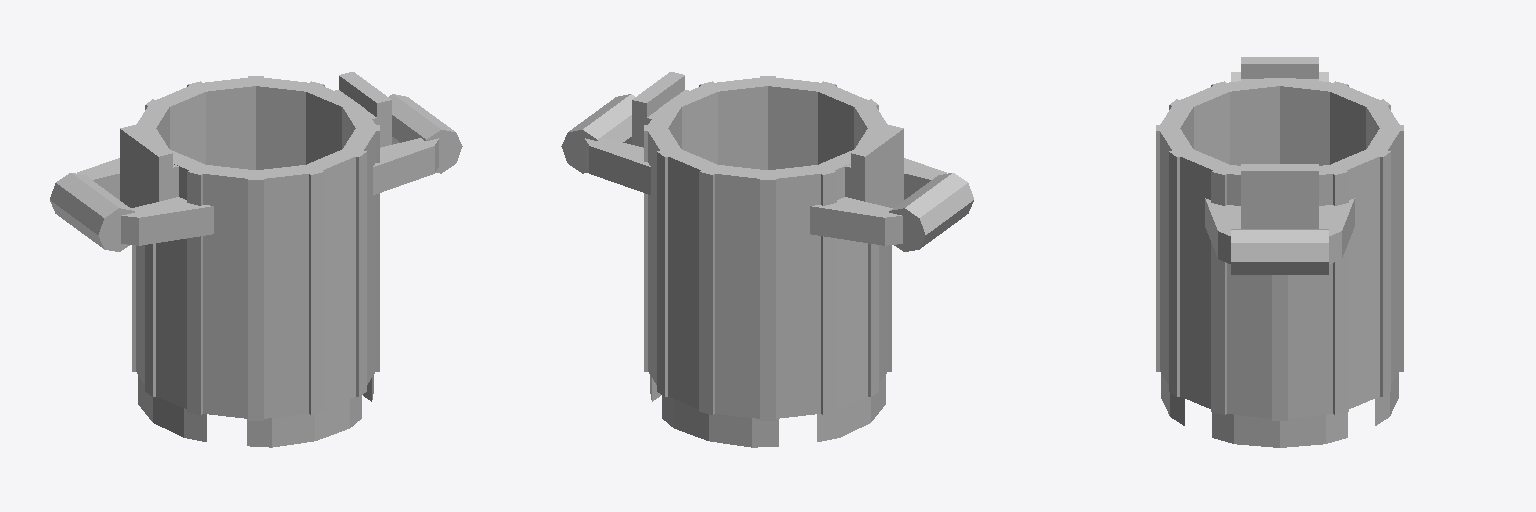
Rendered from Trashcan.obj.
3 views of the same model, side by side, from view 1: azimuth 30°, elevation 25°; view 2: azimuth 150°, elevation 25°; view 3: azimuth 270°, elevation 25° (orthographic).
Parts seen in each view (by area): view 1: Mesh_0029_Mesh_0029Mesh; view 2: Mesh_0029_Mesh_0029Mesh; view 3: Mesh_0029_Mesh_0029Mesh.
Boxes of the visible parts, <box> form: Mesh_0029_Mesh_0029Mesh: <box>50,72,462,447</box>; Mesh_0029_Mesh_0029Mesh: <box>561,72,973,447</box>; Mesh_0029_Mesh_0029Mesh: <box>1156,57,1403,447</box>.
Bounding box in the file's own units: 0.2586 × 0.1924 × 0.1521.